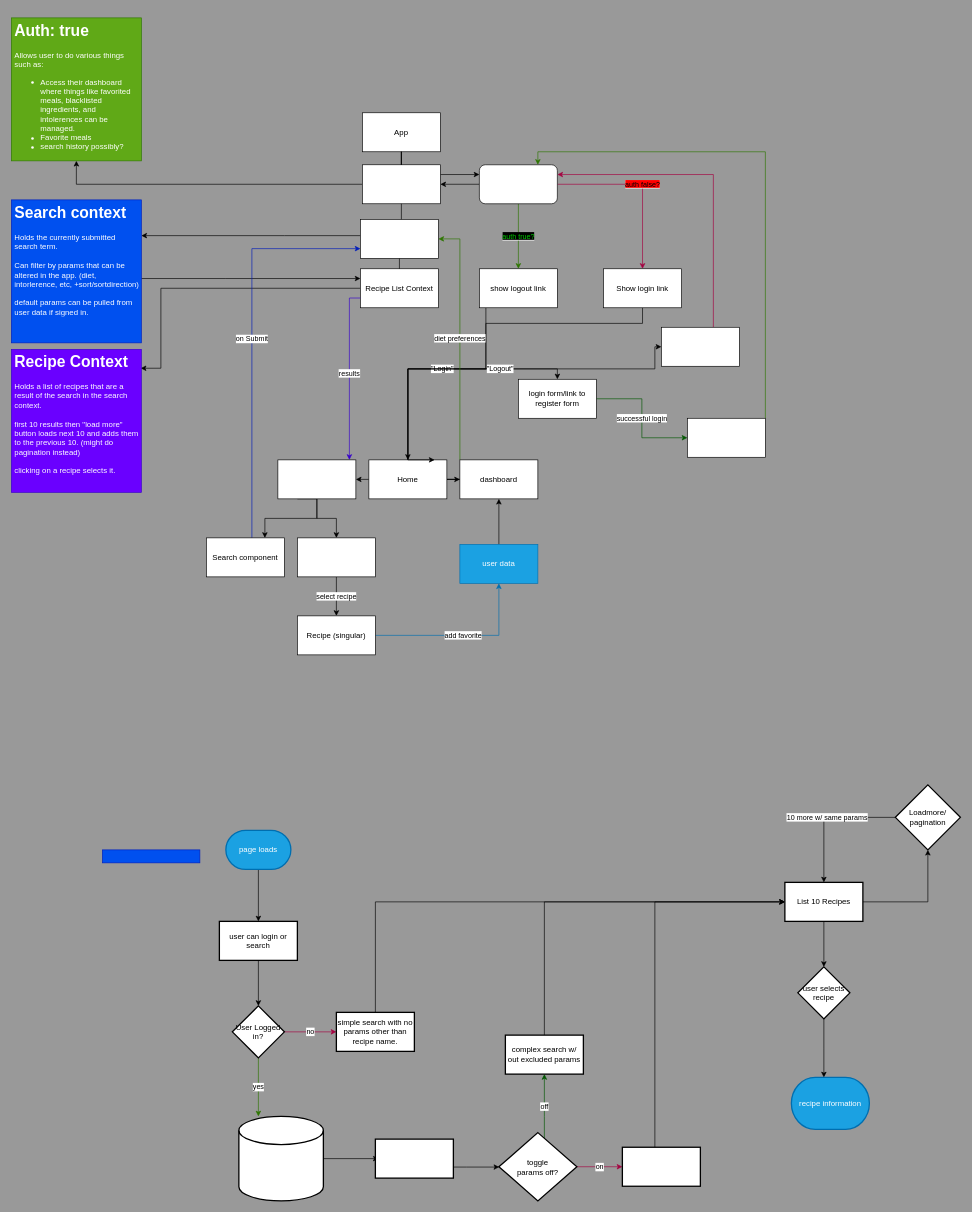
The diagram is 972 pixels wide and 1212 high, and some of its shapes have lost their labels. Each missing label, with the centre of its shape:
"Auth status" goes at (x=518, y=184).
"basic search flow" goes at (x=151, y=856).
"complex search w/ params" goes at (x=661, y=1166).
"destroy session/set auth status to false" goes at (x=700, y=346).
"pulls default params from users data (diet, intolerneces, etc)" goes at (x=281, y=1158).
"Recipe List Component" goes at (x=336, y=557).
"Recipes" goes at (x=316, y=479).
"Search Context" goes at (x=399, y=238).
"start session/set auth status to true" goes at (x=726, y=437).
"User Auth context" goes at (x=401, y=184).
"user can toggle the default params on and off" goes at (x=414, y=1158).
